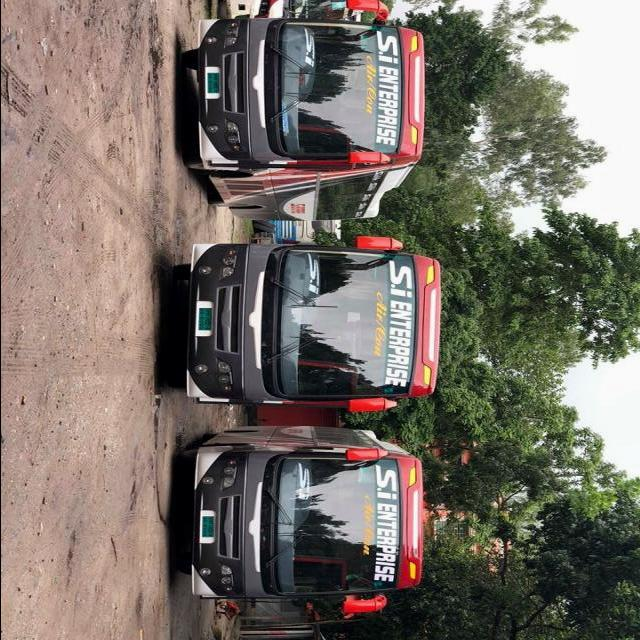bus: (183, 1, 424, 222), (161, 236, 444, 413), (172, 426, 426, 614)
